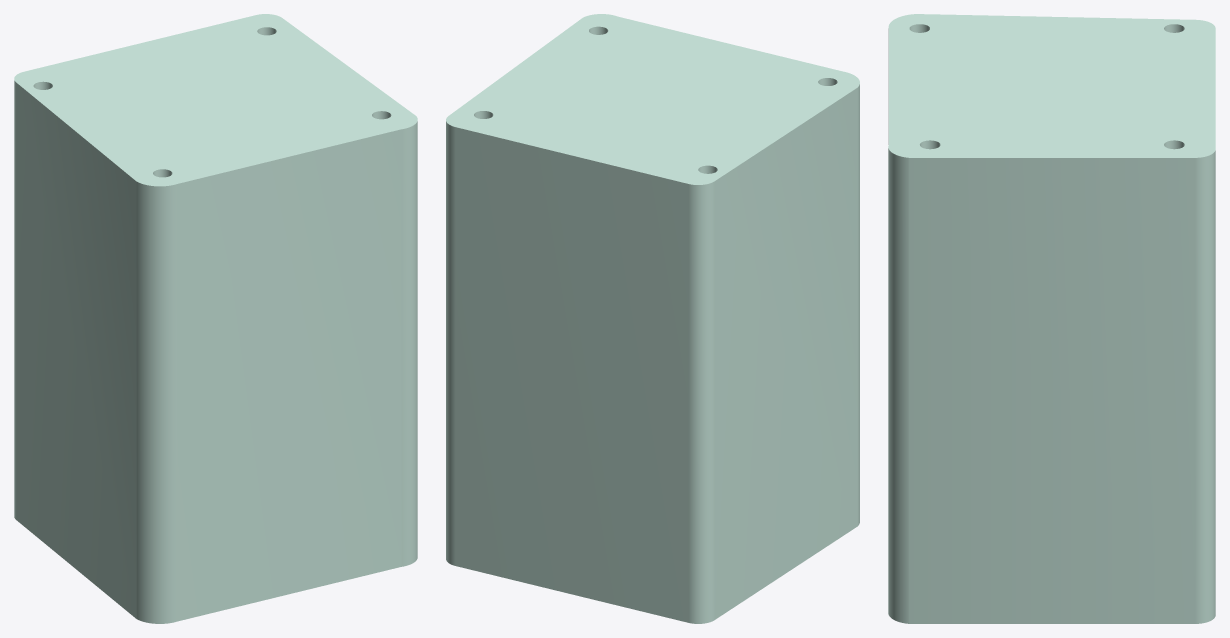
3 views of the same model, side by side, from view 1: azimuth 30°, elevation 25°; view 2: azimuth 150°, elevation 25°; view 3: azimuth 270°, elevation 25° (orthographic). The views are drawn at different scales.
Visible parts, largest first — view 1: Renderer Node; view 2: Renderer Node; view 3: Renderer Node.
Boxes of the visible parts, x1,y1,x2,y2 form: Renderer Node: (14,14,417,623); Renderer Node: (446,14,859,623); Renderer Node: (888,14,1215,623).
Size of the model in its own units: 0.4966 by 0.75 by 0.4773.
